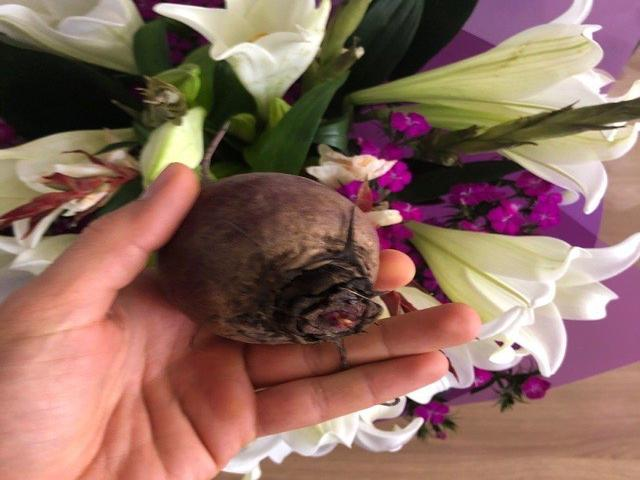beet: (157, 118, 380, 345)
